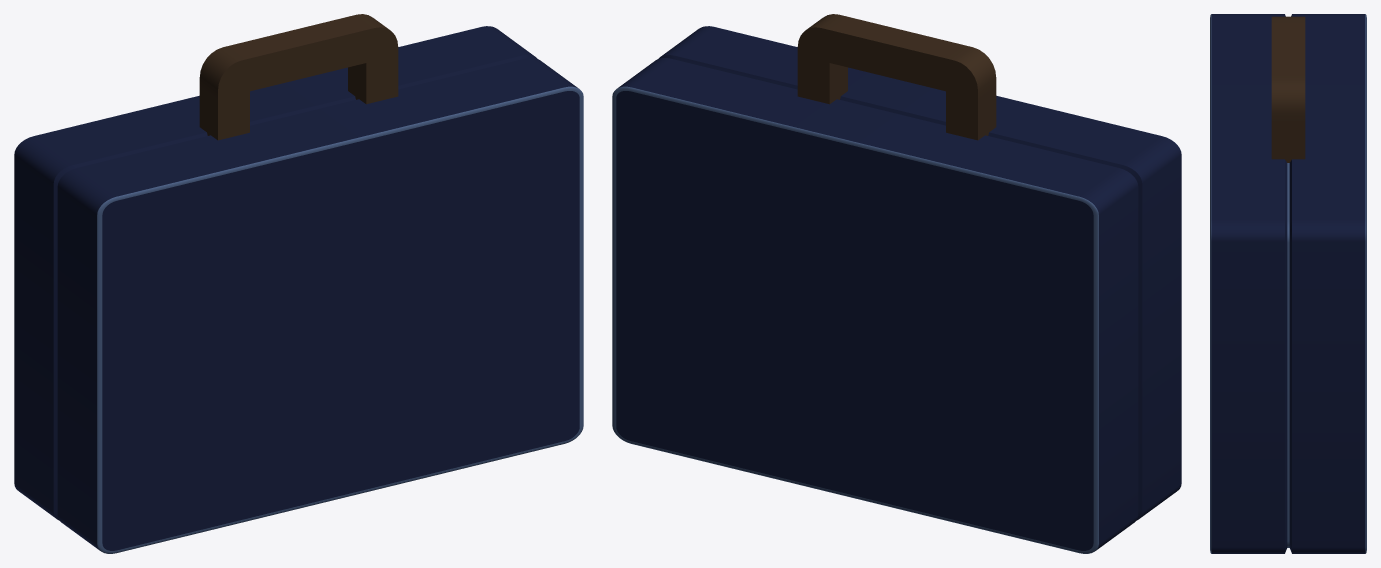
The model's file is suitcase.glb.
The picture shows the model from 3 angles, left to right: view 1: azimuth 30°, elevation 25°; view 2: azimuth 150°, elevation 25°; view 3: azimuth 270°, elevation 25°; orthographic projection. The views are drawn at different scales.
Parts seen in each view (by area): view 1: Suitcase; view 2: Suitcase; view 3: Suitcase.
Part boxes in pixels (x1=…): Suitcase: x1=14, y1=14, x2=583, y2=553; Suitcase: x1=612, y1=14, x2=1181, y2=553; Suitcase: x1=1210, y1=14, x2=1366, y2=553.
Bounding box in the file's own units: 4 × 3.38 × 1.2.
